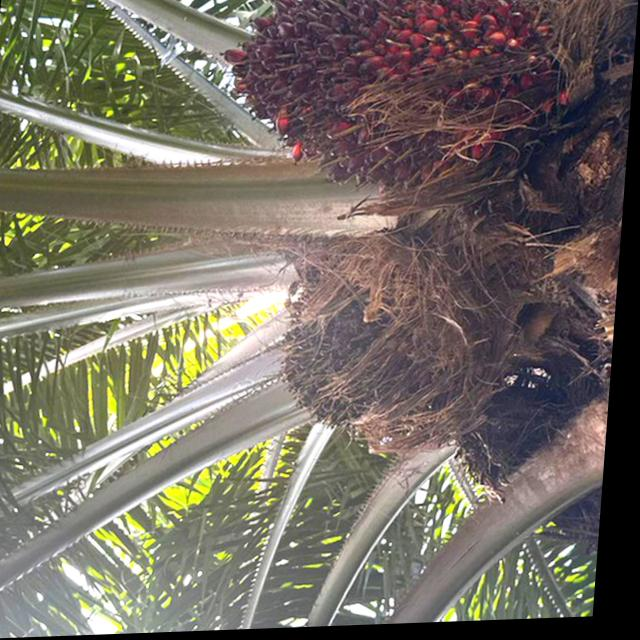unripe: (269, 237, 475, 445)
